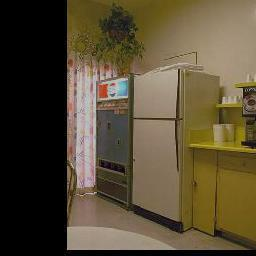Electrodomestico: (133, 76, 188, 231), (98, 82, 129, 207)
